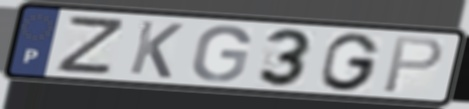3: (257, 26, 314, 89)
G: (318, 31, 384, 93), (188, 23, 253, 84)
K: (126, 18, 186, 81)
P: (379, 35, 446, 95)
Z: (52, 15, 130, 77)
